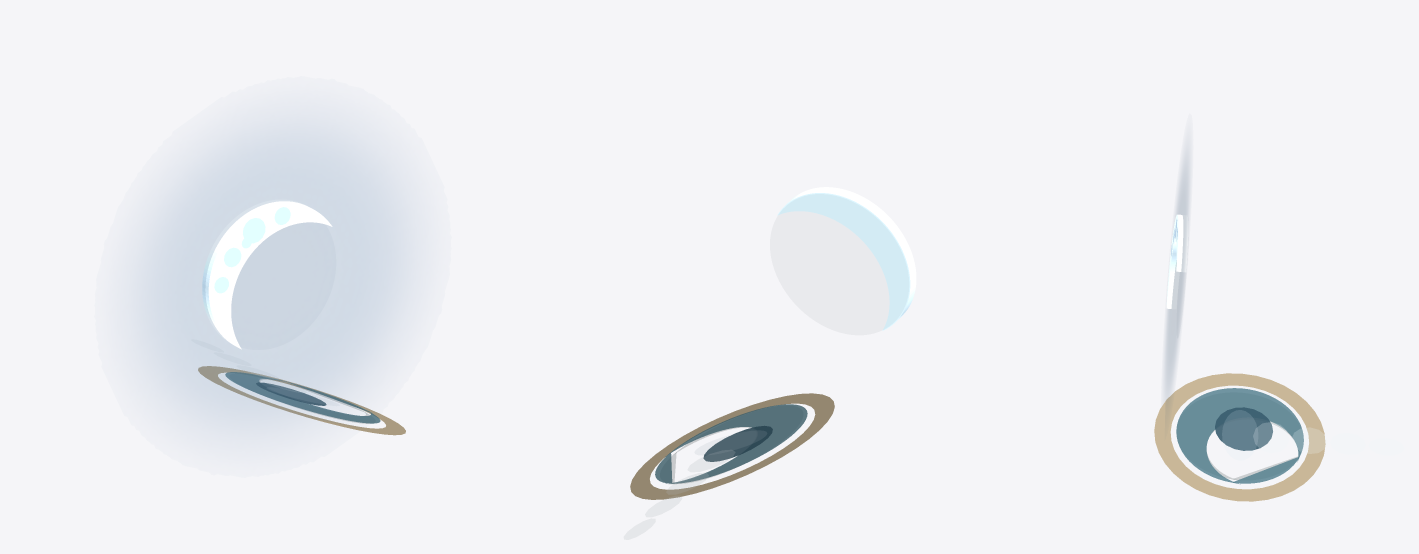
File: moonLake.glb
The picture shows the model from 3 angles, left to right: view 1: azimuth 30°, elevation 25°; view 2: azimuth 150°, elevation 25°; view 3: azimuth 270°, elevation 25°; orthographic projection. The views are drawn at different scales.
Visible parts, largest first — view 1: moon-lake-orb-halo, moon-lake-orb-body, n5, n2, n4; view 2: moon-lake-orb-body, n5, n2, n4, n35; view 3: n5, n2, n4, moon-lake-orb-halo, moon-lake-orb-body, n35, n36, n37, n38, n39.
Part boxes in pixels (<box>): moon-lake-orb-halo: <box>143,131,402,422</box>; moon-lake-orb-body: <box>202,199,332,349</box>; n5: <box>198,366,405,435</box>; n2: <box>225,372,380,423</box>; n4: <box>256,382,326,405</box>; moon-lake-orb-body: <box>777,187,916,330</box>; n5: <box>630,393,834,499</box>; n2: <box>655,404,807,483</box>; n4: <box>703,425,772,461</box>; n35: <box>695,431,766,454</box>; n5: <box>1154,373,1325,501</box>; n2: <box>1176,388,1303,484</box>; n4: <box>1215,407,1272,450</box>; moon-lake-orb-halo: <box>1165,158,1188,395</box>; moon-lake-orb-body: <box>1166,214,1188,309</box>; n35: <box>1222,410,1256,459</box>; n36: <box>1253,422,1288,452</box>; n37: <box>1292,428,1327,453</box>; n38: <box>1330,433,1365,454</box>; n39: <box>1369,438,1403,454</box>.
Size of the model in its own units: 26.72 by 26.62 by 13.67.
16 materials, 1 textured.
